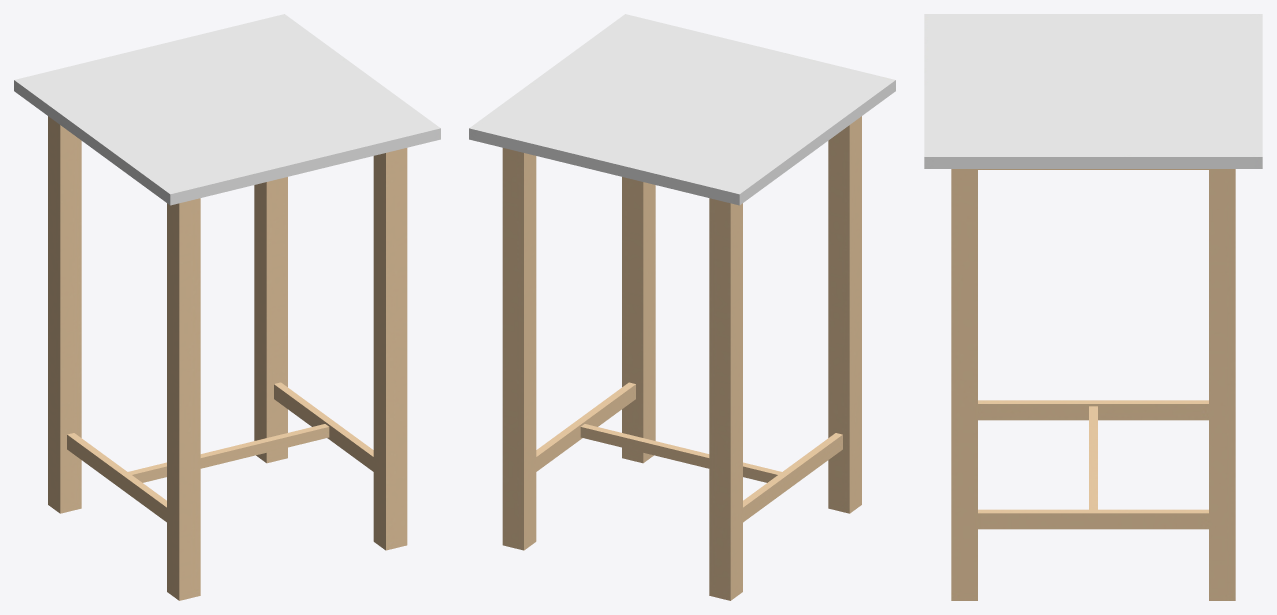
The model's file is stool_1.gltf.
3 renders of one model, left to right at view 1: azimuth 30°, elevation 25°; view 2: azimuth 150°, elevation 25°; view 3: azimuth 270°, elevation 25°, orthographic. The views are drawn at different scales.
Parts seen in each view (by area): view 1: Stool_lowpoly_Cube.016; view 2: Stool_lowpoly_Cube.016; view 3: Stool_lowpoly_Cube.016.
Part boxes in pixels (left/top/right/bottom): Stool_lowpoly_Cube.016: left=14, top=14, right=440, bottom=600; Stool_lowpoly_Cube.016: left=469, top=14, right=895, bottom=600; Stool_lowpoly_Cube.016: left=924, top=14, right=1262, bottom=600.
Size of the model in its own units: 0.5134 by 0.7632 by 0.5134.
1 material, 1 textured.
